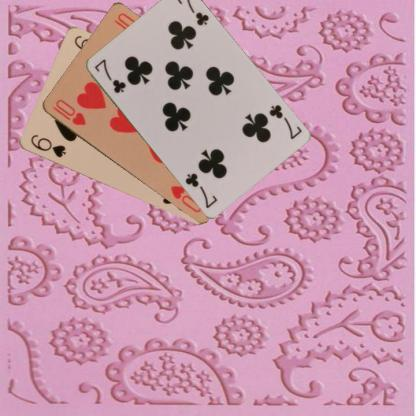10h: (49, 97, 87, 127)
6s: (28, 132, 67, 159)
7c: (266, 102, 303, 140), (91, 56, 127, 95)
